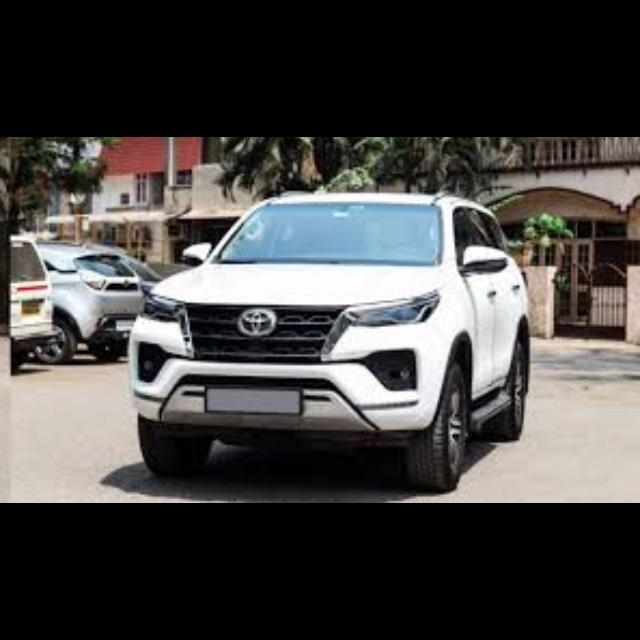vehicles: (133, 192, 534, 488), (11, 236, 61, 368)
